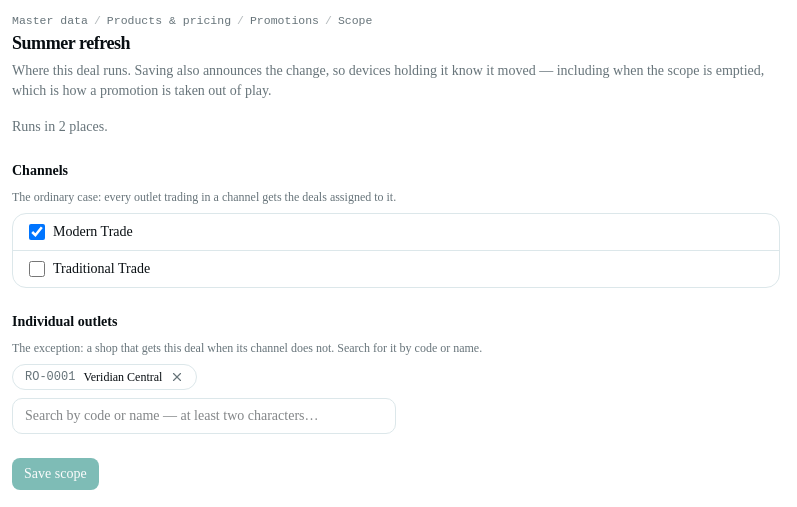
Test case: <PromotionScope> › counts removing an outlet as a change, not only adding one
Expected: the button "Save scope" is disabled, [12,458,99,490]
Step 1. Click the button named "Remove Veridian Central (RO-0001)" → (177, 377), box [170,370,184,384]
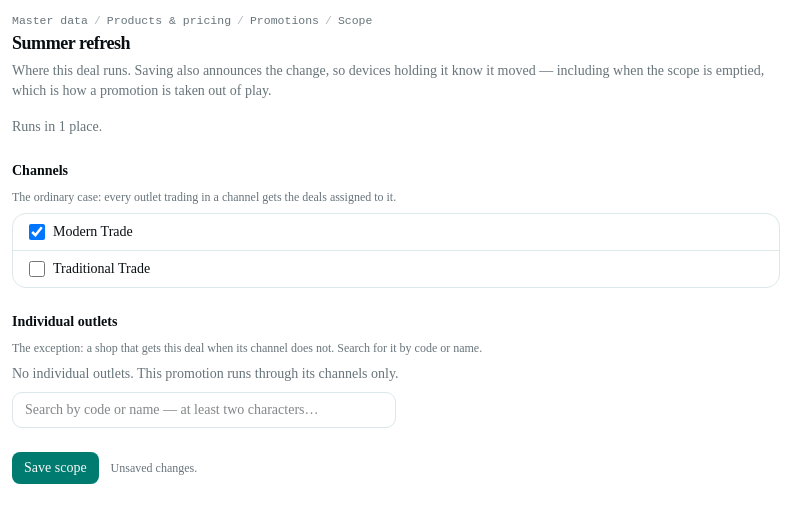
Expected: the button "Save scope" is enabled, [12,452,99,484]
